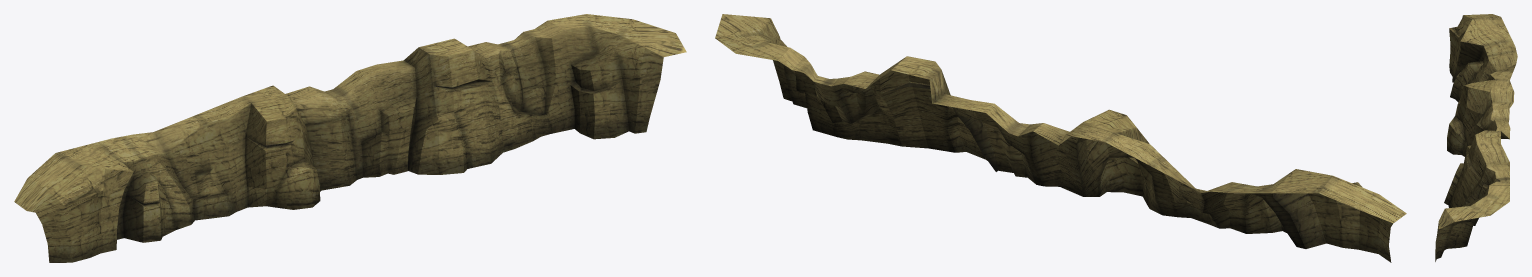
File: mountain_01.fbx
3 views of the same model, side by side, from view 1: azimuth 30°, elevation 25°; view 2: azimuth 150°, elevation 25°; view 3: azimuth 270°, elevation 25° (orthographic). The views are drawn at different scales.
Visible parts, largest first — view 1: mountain_01; view 2: mountain_01; view 3: mountain_01.
Part boxes in pixels (left/top/right/bottom): mountain_01: left=14, top=14, right=686, bottom=262; mountain_01: left=715, top=14, right=1406, bottom=262; mountain_01: left=1435, top=14, right=1517, bottom=261.
Size of the model in its own units: 930 by 139 by 144.
